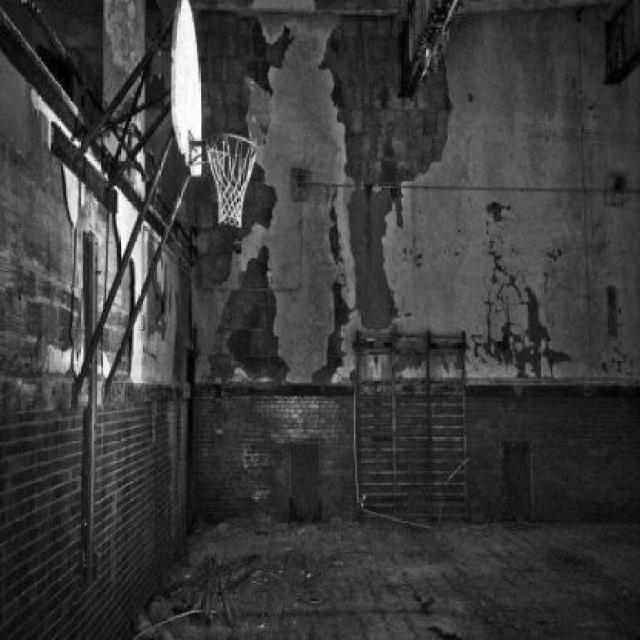rim: (205, 131, 259, 227)
